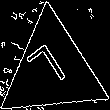L_SE: (28, 40, 77, 99)
